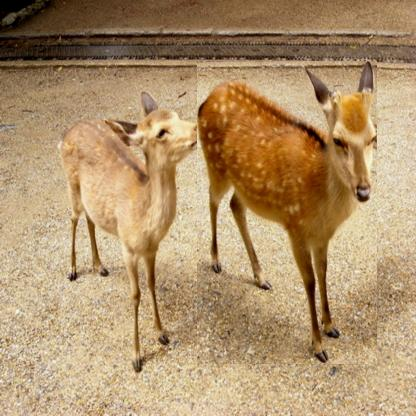Deer: (197, 61, 377, 364), (57, 90, 201, 371)
